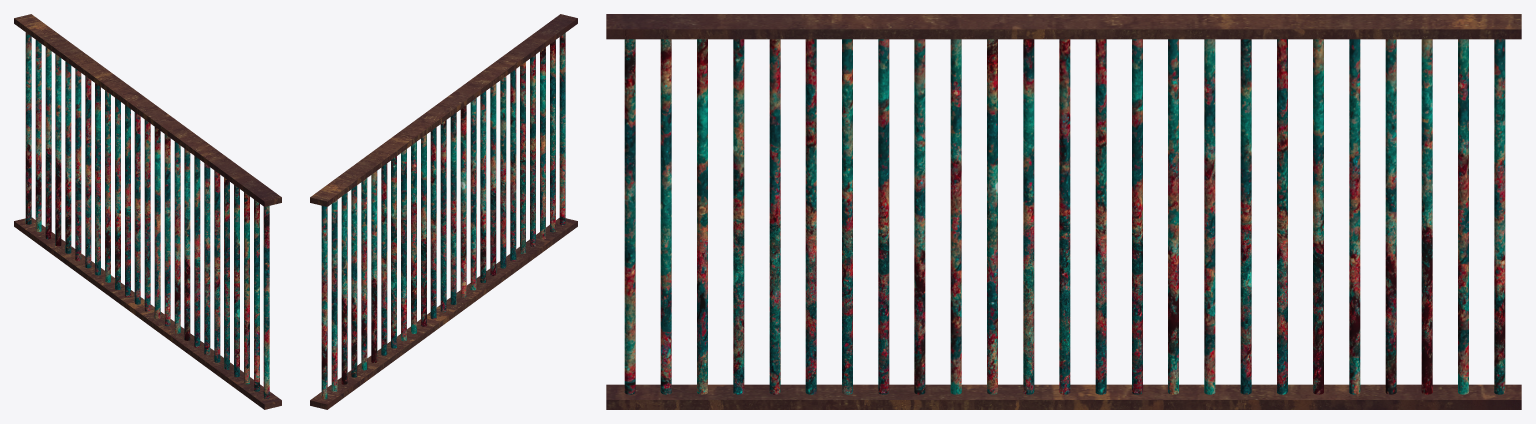
3 renders of one model, left to right at view 1: azimuth 30°, elevation 25°; view 2: azimuth 150°, elevation 25°; view 3: azimuth 270°, elevation 25°, orthographic. The views are drawn at different scales.
Visible parts, largest first — view 1: Cube.001, Cube, 円柱, 円柱.024, 円柱.009, 円柱.010, 円柱.012, 円柱.013, 円柱.020, 円柱.021, 円柱.006, 円柱.005 (+15 smaller); view 2: Cube.001, Cube, 円柱.024, 円柱.006, 円柱.018, 円柱.021, 円柱.005, 円柱.009, 円柱.010, 円柱.020, 円柱.007, 円柱.019 (+15 smaller); view 3: Cube.001, Cube, 円柱.005, 円柱.007, 円柱.024, 円柱, 円柱.001, 円柱.003, 円柱.004, 円柱.008, 円柱.009, 円柱.011 (+15 smaller).
Part boxes in pixels (left/top/right/bottom): Cube.001: left=14, top=14, right=281, bottom=206; Cube: left=14, top=217, right=281, bottom=409; 円柱: left=263, top=206, right=269, bottom=398; 円柱.024: left=25, top=32, right=31, bottom=224; 円柱.009: left=174, top=141, right=180, bottom=333; 円柱.010: left=164, top=134, right=170, bottom=326; 円柱.012: left=144, top=119, right=150, bottom=311; 円柱.013: left=134, top=112, right=140, bottom=304; 円柱.020: left=65, top=61, right=71, bottom=253; 円柱.021: left=55, top=54, right=61, bottom=246; 円柱.006: left=204, top=163, right=210, bottom=355; 円柱.005: left=214, top=170, right=220, bottom=362; Cube.001: left=310, top=14, right=577, bottom=206; Cube: left=310, top=218, right=577, bottom=409; 円柱.024: left=321, top=206, right=327, bottom=399; 円柱.006: left=500, top=76, right=506, bottom=268; 円柱.018: left=381, top=163, right=387, bottom=355; 円柱.021: left=351, top=185, right=357, bottom=377; 円柱.005: left=510, top=69, right=516, bottom=261; 円柱.009: left=470, top=98, right=476, bottom=290; 円柱.010: left=460, top=105, right=466, bottom=297; 円柱.020: left=361, top=178, right=367, bottom=370; 円柱.007: left=490, top=84, right=496, bottom=275; 円柱.019: left=371, top=171, right=377, bottom=362; Cube.001: left=606, top=14, right=1521, bottom=39; Cube: left=606, top=384, right=1521, bottom=409; 円柱.005: left=805, top=39, right=816, bottom=394; 円柱.007: left=878, top=39, right=889, bottom=394; 円柱.024: left=1494, top=39, right=1505, bottom=394; 円柱: left=624, top=39, right=635, bottom=394; 円柱.001: left=660, top=39, right=671, bottom=394; 円柱.003: left=733, top=39, right=744, bottom=394; 円柱.004: left=769, top=39, right=780, bottom=394; 円柱.008: left=914, top=39, right=925, bottom=394; 円柱.009: left=950, top=39, right=961, bottom=394; 円柱.011: left=1023, top=39, right=1034, bottom=394.
Bounding box in the file's own units: 200 × 5000 × 2294.
2 materials, 2 textured.
